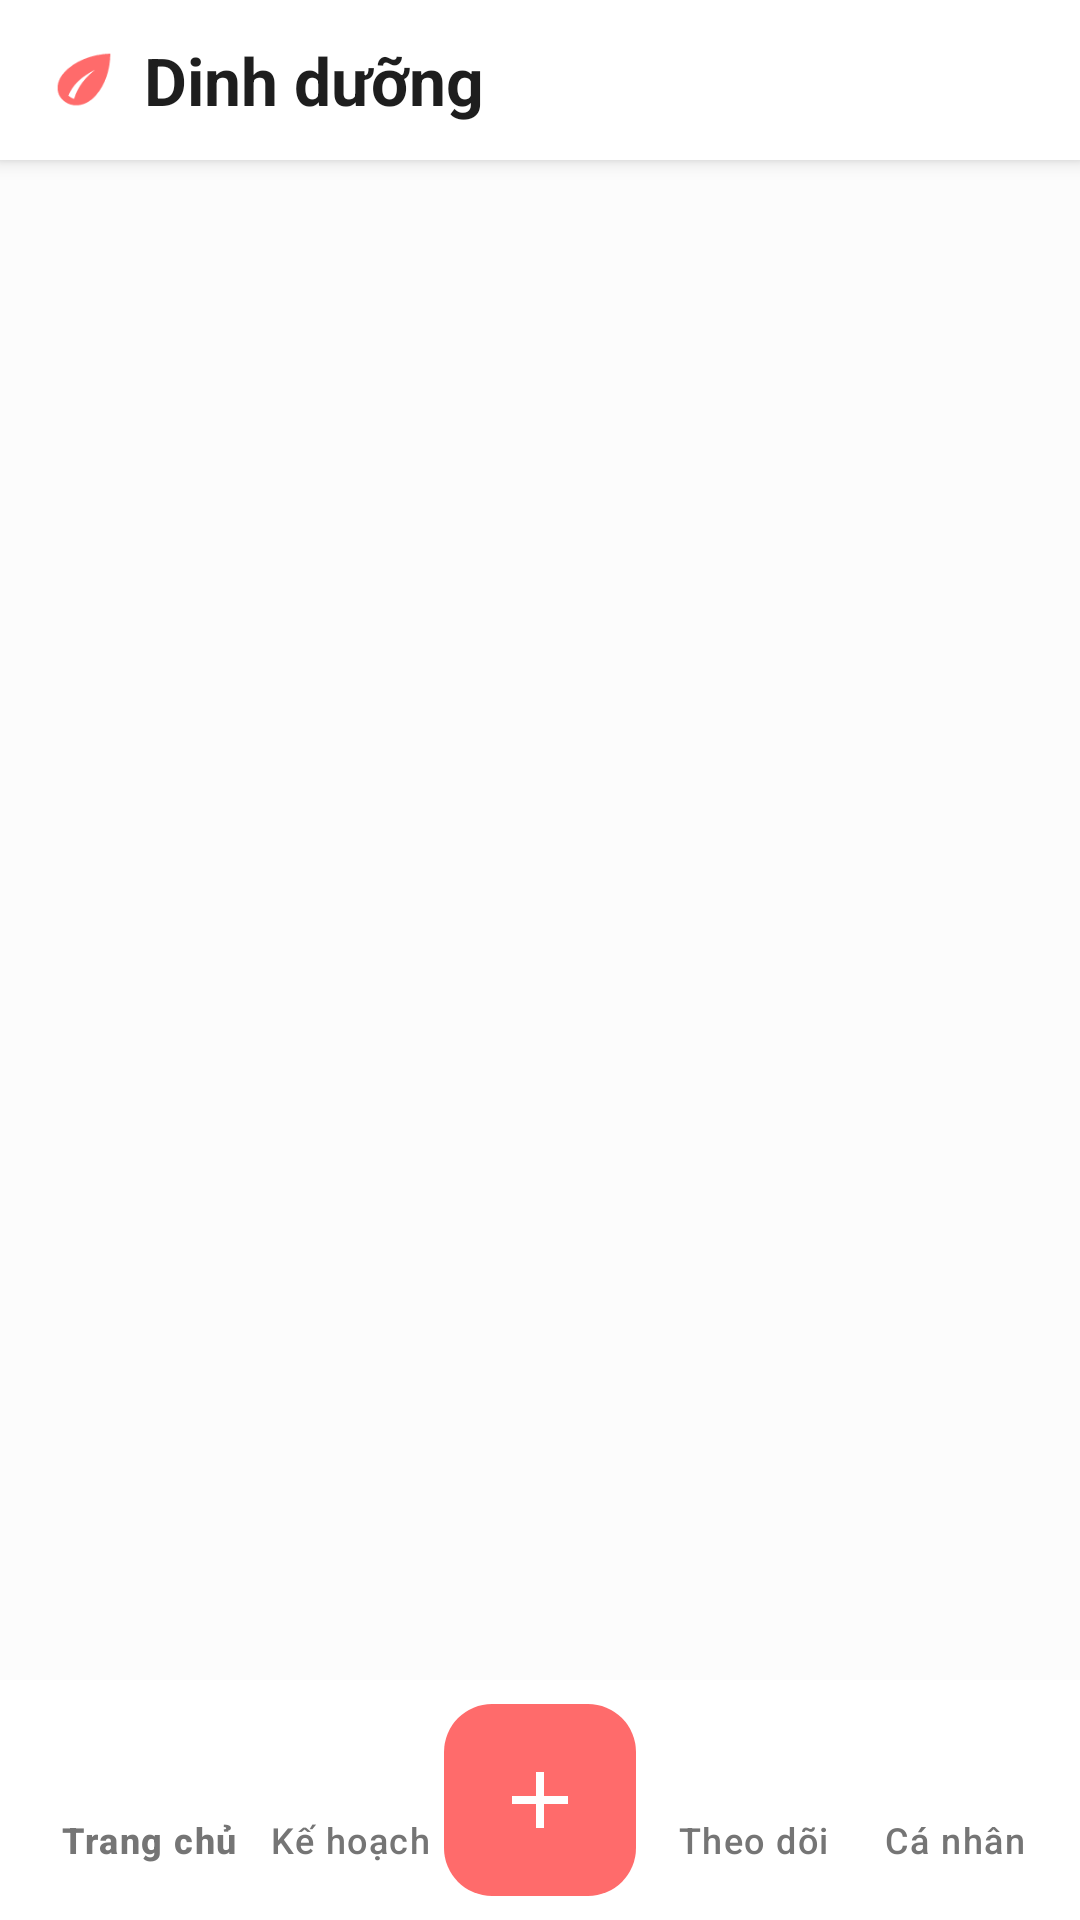

Locate icon controls on the screen. Image size 1080px x 1920px, boxes as box(x1, y1, x2, y2).
Ghi nhận bữa ăn: box(444, 1728, 636, 1896)
Nutrition Icon: box(57, 53, 111, 106)
